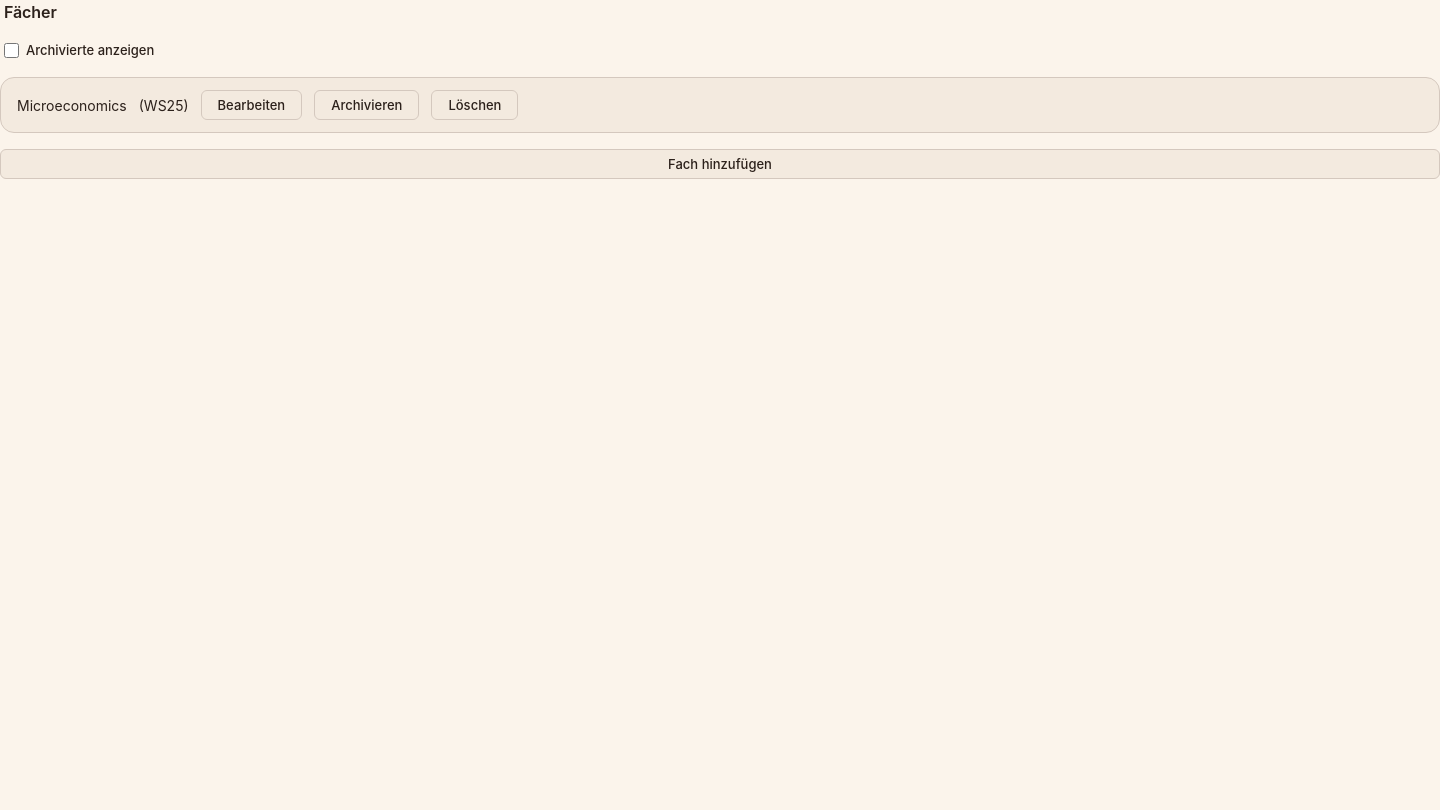
it: CourseSetup › löscht ein Fach nicht, wenn der Dialog abgebrochen wird
Step 1. Click the button with aria-label "Microeconomics löschen" → (475, 105), box x1=431 y1=90 x2=518 y2=120
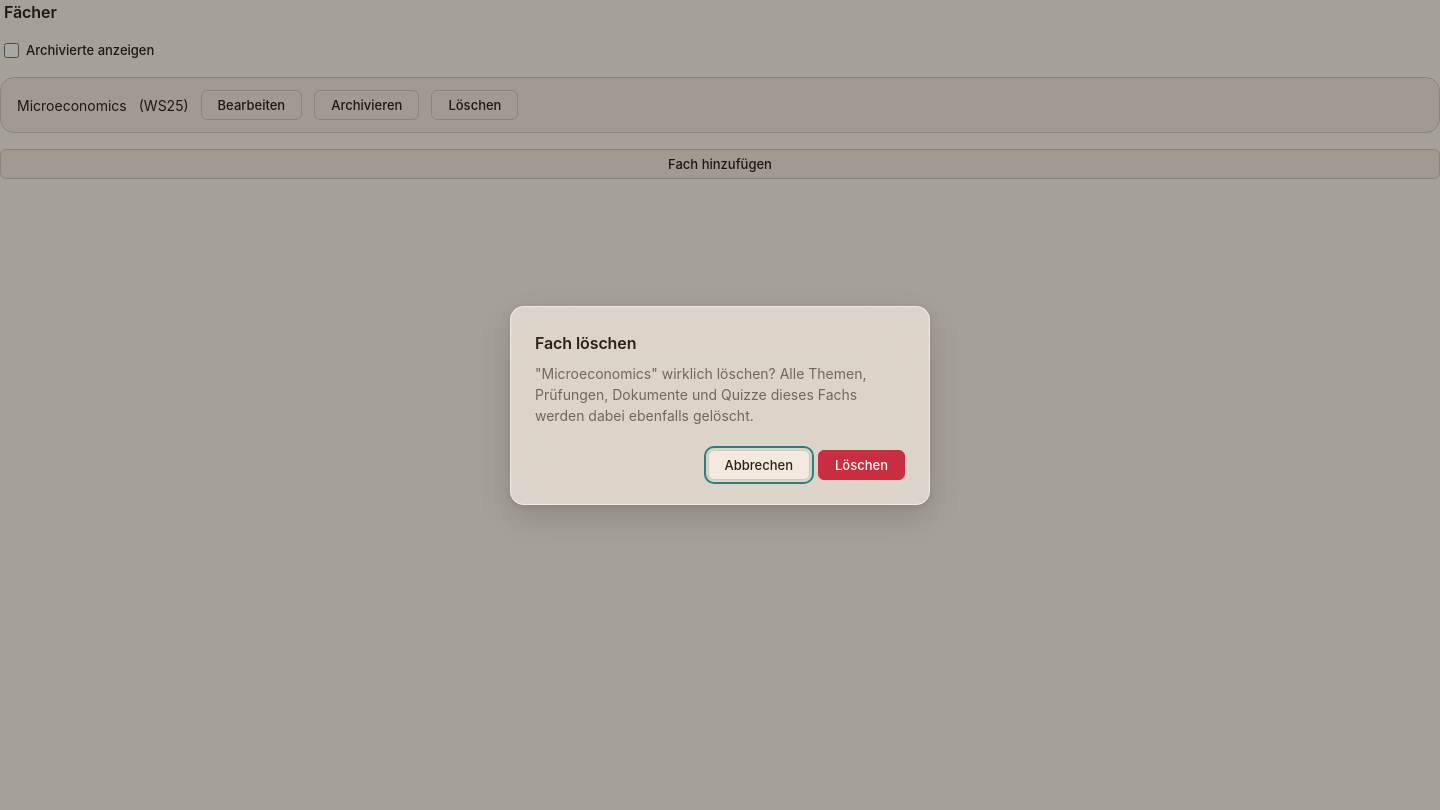
Step 2. Click the button "Abbrechen" → (759, 464), box x1=708 y1=450 x2=810 y2=480
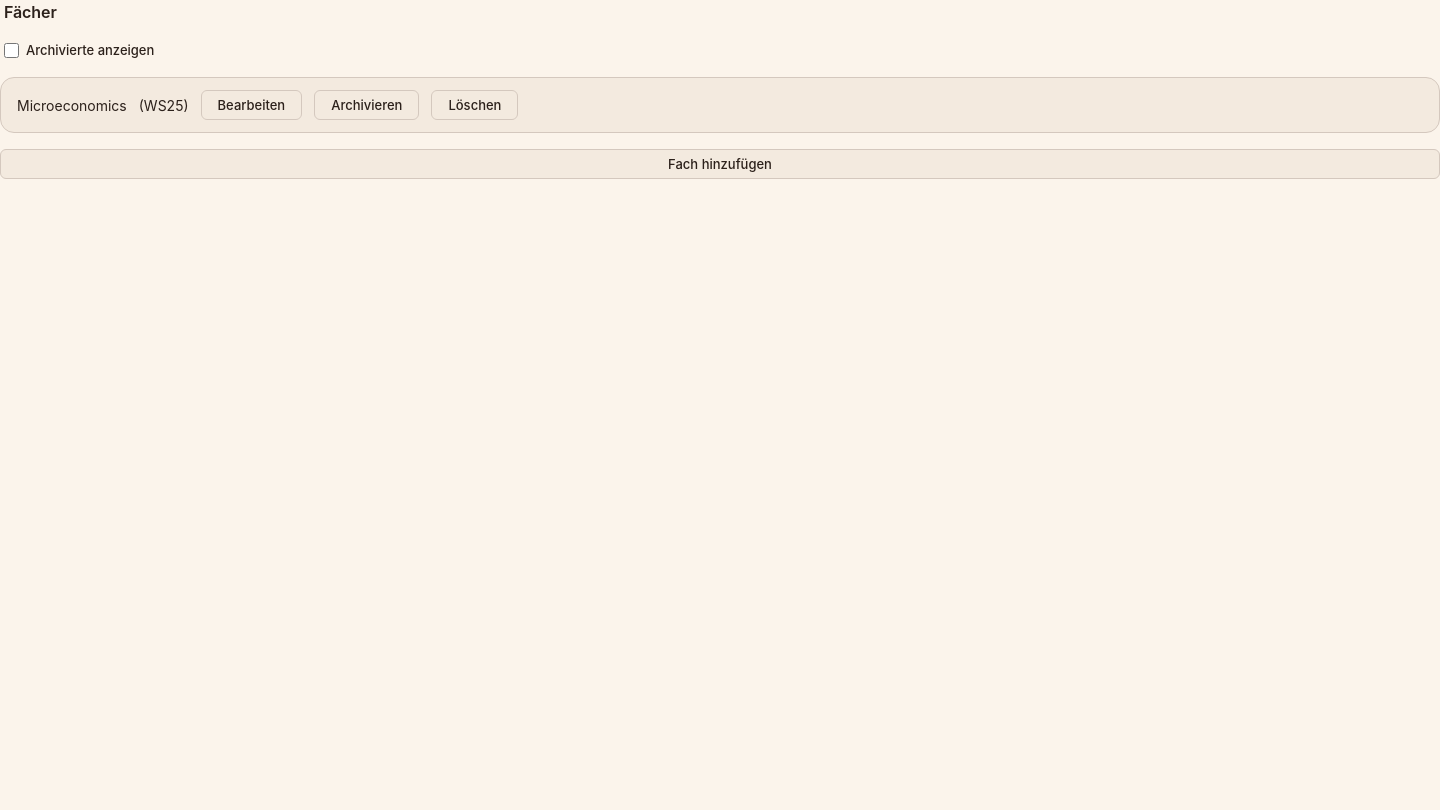
Expected: the dialog is gone
